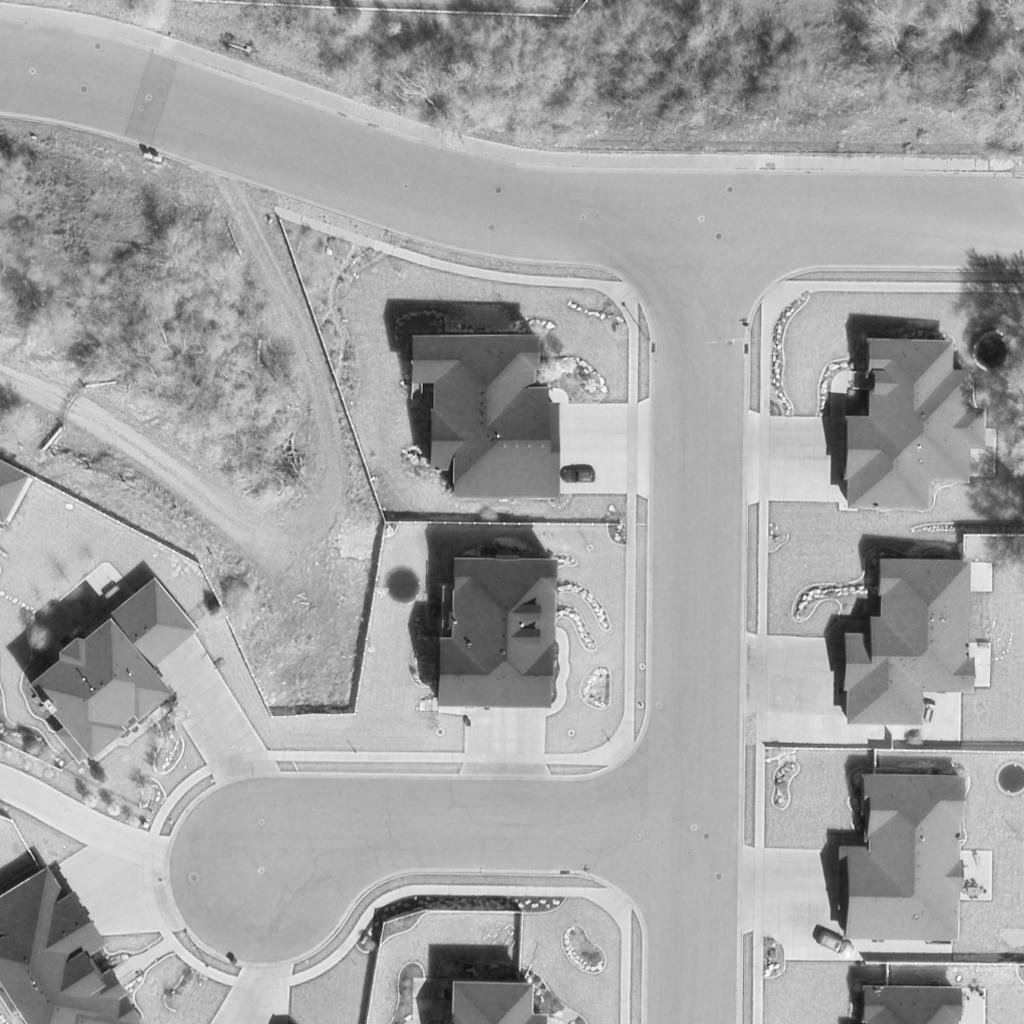vehicle: (815, 931, 855, 961), (558, 464, 596, 484)
